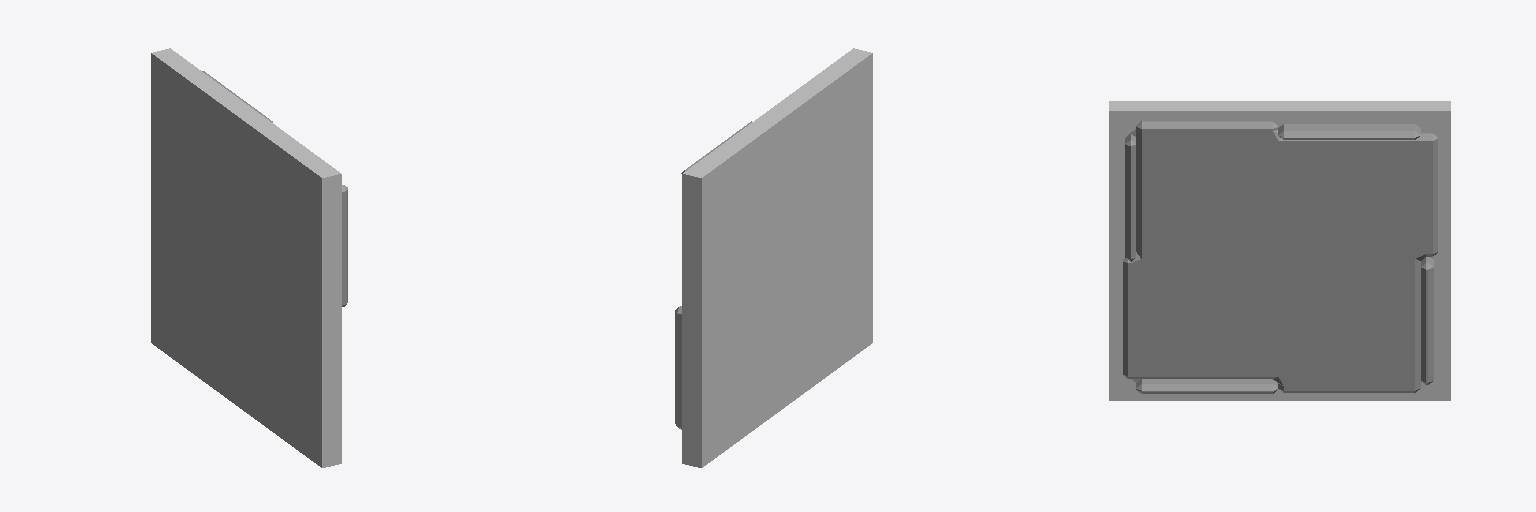
File: basepanel.obj
3 views of the same model, side by side, from view 1: azimuth 30°, elevation 25°; view 2: azimuth 150°, elevation 25°; view 3: azimuth 270°, elevation 25° (orthographic).
Visible parts, largest first — view 1: Cube.001, Cube; view 2: Cube.001, Cube; view 3: Cube, Cube.001.
Part boxes in pixels (bbox=[...]): Cube.001: bbox=[151, 48, 341, 467]; Cube: bbox=[202, 71, 347, 306]; Cube.001: bbox=[682, 48, 872, 467]; Cube: bbox=[675, 121, 751, 429]; Cube: bbox=[1123, 121, 1437, 393]; Cube.001: bbox=[1109, 101, 1450, 400].
Bounding box in the file's own units: 0.0025 × 0.0178 × 0.019.